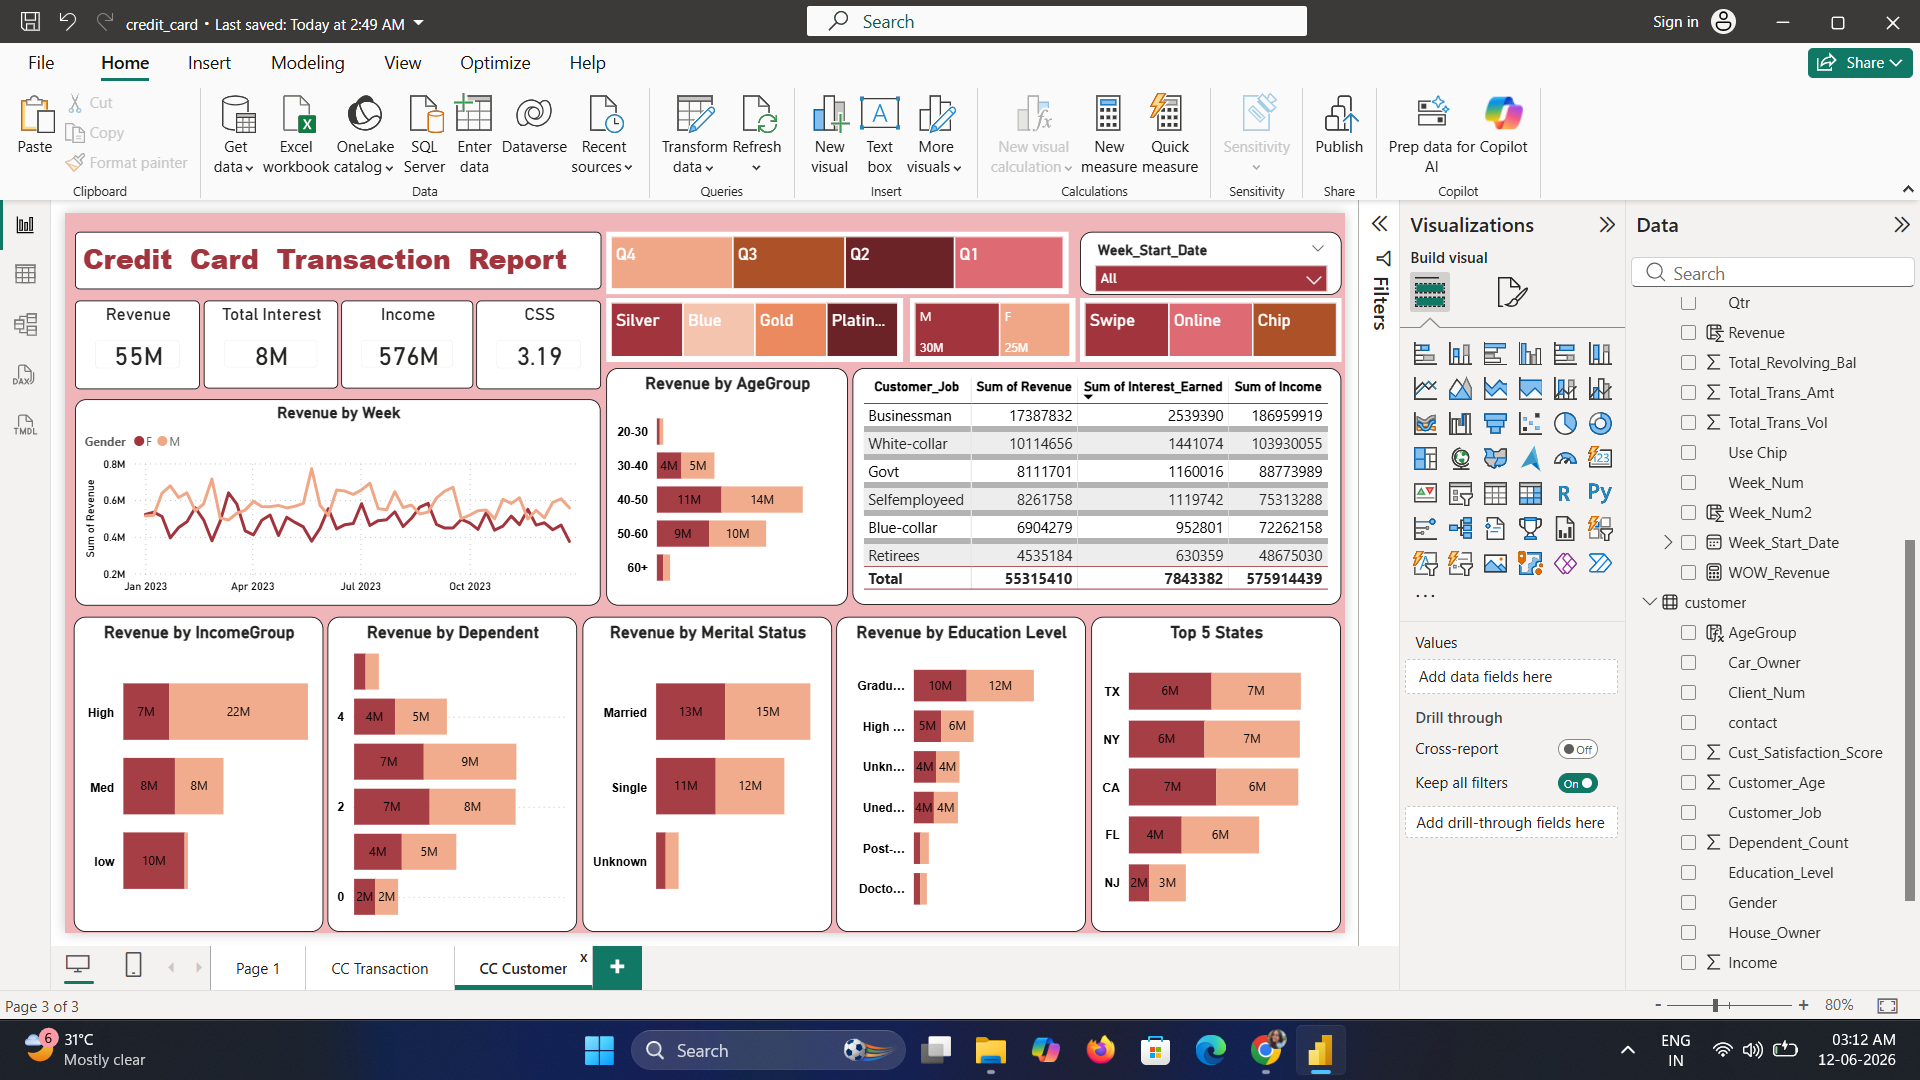

This screenshot's page, from the dashboard's own definition file:
{"tool":"powerbi","page":{"name":"CC Customer","canvas":[1280,720],"ordinal":2},"visuals":[{"type":"textbox","box":[10,18.8,526.2,57.5],"z":0},{"type":"tableEx","fields":{"Values":["customer.Customer_Job","Sum(credit_card.Revenue)","Sum(credit_card.Interest_Earned)","Sum(customer.Income)"]},"box":[787.8,154.4,488.6,236.5],"z":1000},{"type":"cardVisual","title":"Revenue","fields":{"Data":["Sum(credit_card.Revenue)"]},"box":[10,87.5,125,88.8],"z":2000},{"type":"cardVisual","title":"Total Interest","fields":{"Data":["Sum(credit_card.Interest_Earned)"]},"box":[138.2,88,134.5,88],"z":3000},{"type":"cardVisual","title":"Income","fields":{"Data":["Sum(customer.Income)"]},"box":[276.4,88,132.1,88],"z":4000},{"type":"cardVisual","title":"CSS","fields":{"Data":["Avg(customer.Cust_Satisfaction_Score)"]},"box":[411.2,87.5,125,88.8],"z":5000},{"type":"slicer","fields":{"Values":["credit_card.Week_Start_Date"]},"box":[1015,18.3,261.7,63.6],"z":6000},{"type":"treemap","fields":{"Group":["credit_card.Qtr"],"Values":["Avg(credit_card.Client_Num)"]},"box":[541.7,18.3,462.2,62.4],"z":7000},{"type":"barChart","title":"Revenue by IncomeGroup","fields":{"Category":["customer.IncomeGroup"],"Y":["Sum(credit_card.Revenue)"],"Series":["customer.Gender"]},"box":[8.6,403.5,249.5,315.5],"z":8000},{"type":"treemap","fields":{"Group":["credit_card.Card_Category"],"Values":["Avg(credit_card.Client_Num)"]},"box":[541.7,84.5,296.8,63.9],"z":9000},{"type":"lineChart","title":"Revenue by Week","fields":{"Y":["Sum(credit_card.Revenue)"],"Series":["customer.Gender"],"Category":["credit_card.Week_Start_Date.Variation.Date Hierarchy.Year","credit_card.Week_Start_Date.Variation.Date Hierarchy.Month","credit_card.Week_Start_Date.Variation.Date Hierarchy.Day"]},"box":[9.8,185.9,525.8,206.7],"z":10000},{"type":"treemap","fields":{"Group":["customer.Gender"],"Values":["Sum(credit_card.Revenue)"]},"box":[844.5,84.5,165.3,63.9],"z":11000},{"type":"barChart","title":"Revenue by AgeGroup","fields":{"Category":["customer.AgeGroup"],"Y":["Sum(credit_card.Revenue)"],"Series":["customer.Gender"]},"box":[541.7,154.4,241.3,237.7],"z":12000},{"type":"barChart","title":"Revenue by Merital Status","fields":{"Y":["Sum(credit_card.Revenue)"],"Category":["customer.Marital_Status"],"Series":["customer.Gender"]},"box":[517.3,403.5,249.5,315.5],"z":13000},{"type":"barChart","title":"Revenue by Education Level","fields":{"Y":["Sum(credit_card.Revenue)"],"Category":["customer.Education_Level"],"Series":["customer.Gender"]},"box":[771.6,403.5,249.5,315.5],"z":14000},{"type":"barChart","title":"Top 5 States","fields":{"Y":["Sum(credit_card.Revenue)"],"Category":["customer.state_cd"],"Series":["customer.Gender"]},"box":[1026,403.5,249.5,315.5],"z":15000},{"type":"barChart","title":"Revenue by Dependent","fields":{"Y":["Sum(credit_card.Revenue)"],"Category":["customer.Dependent_Count"],"Series":["customer.Gender"]},"box":[262.9,403.5,249.5,315.5],"z":16000},{"type":"treemap","fields":{"Group":["credit_card.Use Chip"],"Values":["Avg(credit_card.Client_Num)"]},"box":[1014.6,84.5,261.8,63.9],"z":17000}]}

Visuals, with their boxes on the page's 1280x720 design canvas (x1, y1, x2, y2). These are canvas units, not pixel positions in the 1920x1080 screenshot, which may show the page scaled, cropped or inside an application window:
textbox: l=10, t=19, r=536, b=76
tableEx - customer.Customer_Job x Sum(credit_card.Revenue): l=788, t=154, r=1276, b=391
"Revenue" cardVisual: l=10, t=88, r=135, b=176
"Total Interest" cardVisual: l=138, t=88, r=273, b=176
"Income" cardVisual: l=276, t=88, r=408, b=176
"CSS" cardVisual: l=411, t=88, r=536, b=176
slicer - credit_card.Week_Start_Date: l=1015, t=18, r=1277, b=82
treemap - credit_card.Qtr x Avg(credit_card.Client_Num): l=542, t=18, r=1004, b=81
"Revenue by IncomeGroup" barChart: l=9, t=404, r=258, b=719
treemap - credit_card.Card_Category x Avg(credit_card.Client_Num): l=542, t=84, r=838, b=148
"Revenue by Week" lineChart: l=10, t=186, r=536, b=393
treemap - customer.Gender x Sum(credit_card.Revenue): l=844, t=84, r=1010, b=148
"Revenue by AgeGroup" barChart: l=542, t=154, r=783, b=392
"Revenue by Merital Status" barChart: l=517, t=404, r=767, b=719
"Revenue by Education Level" barChart: l=772, t=404, r=1021, b=719
"Top 5 States" barChart: l=1026, t=404, r=1276, b=719
"Revenue by Dependent" barChart: l=263, t=404, r=512, b=719
treemap - credit_card.Use Chip x Avg(credit_card.Client_Num): l=1015, t=84, r=1276, b=148
